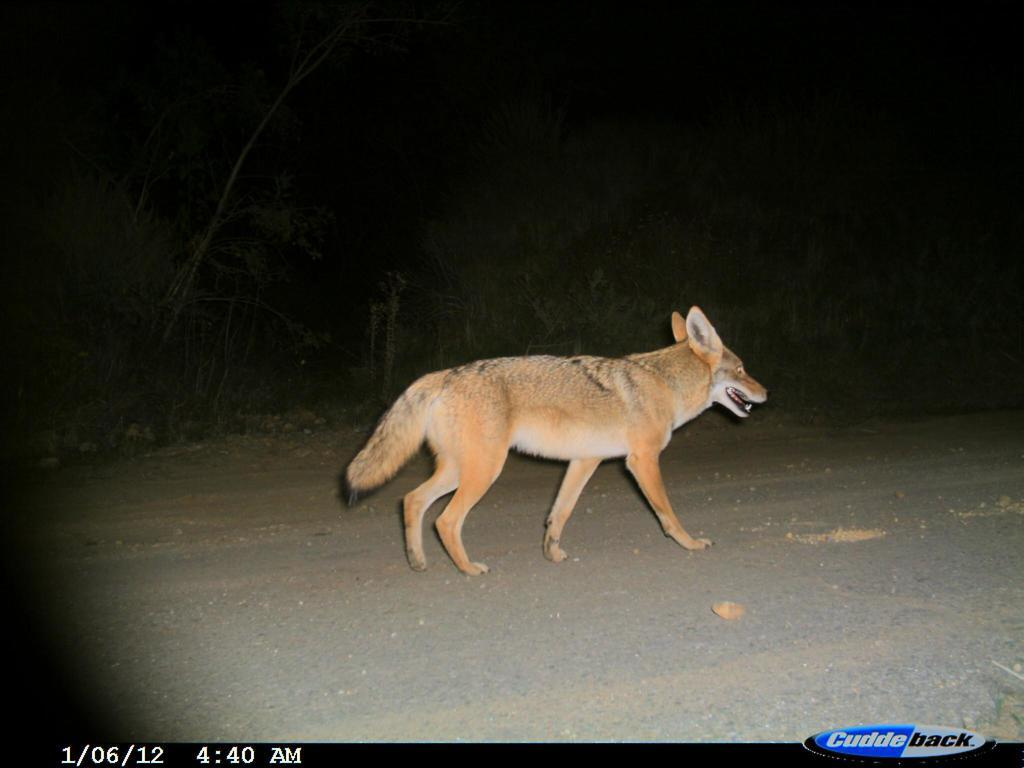coyote: (333, 295, 782, 586)
